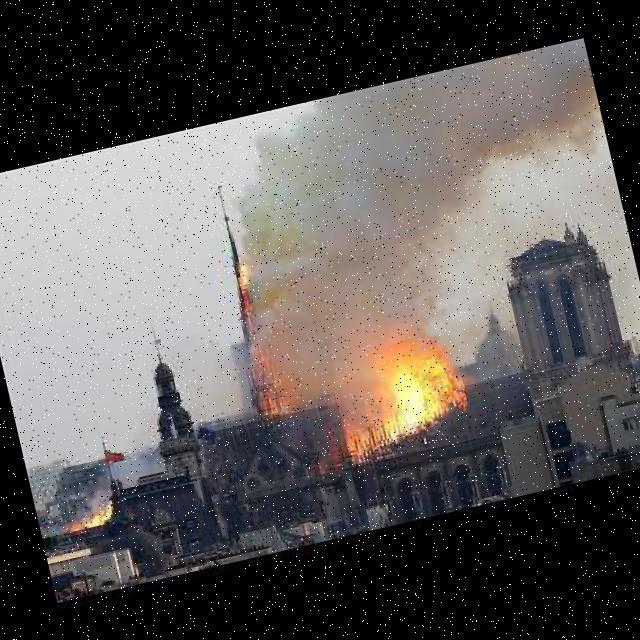fire: (360, 330, 471, 440)
